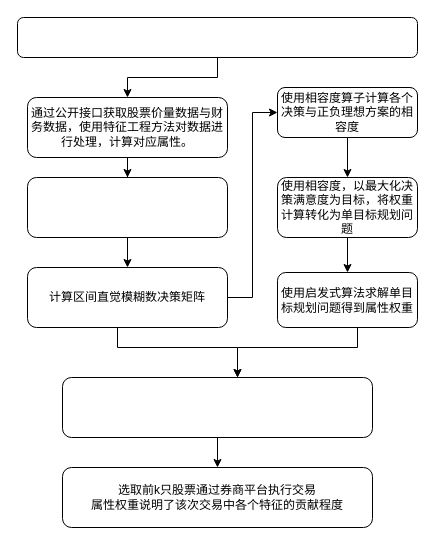
The diagram is 435 pixels wide and 545 high, and some of its shapes have lost their labels. The shapes that lost their labels are listed below. From the top down, each one's centre as x and y in pixels, then its label:
At [217,37]: "基于区间直觉模糊数的量化投资计算方法".
At [127,207]: "使用隶属函数将指标数据转化为隶属度矩阵和非隶属度矩阵".
At [217,407]: "根据决策矩阵和属性权重使用加权算子计算二级决策矩阵 使用得分函数和精确函数计算各个股票的评价值".
